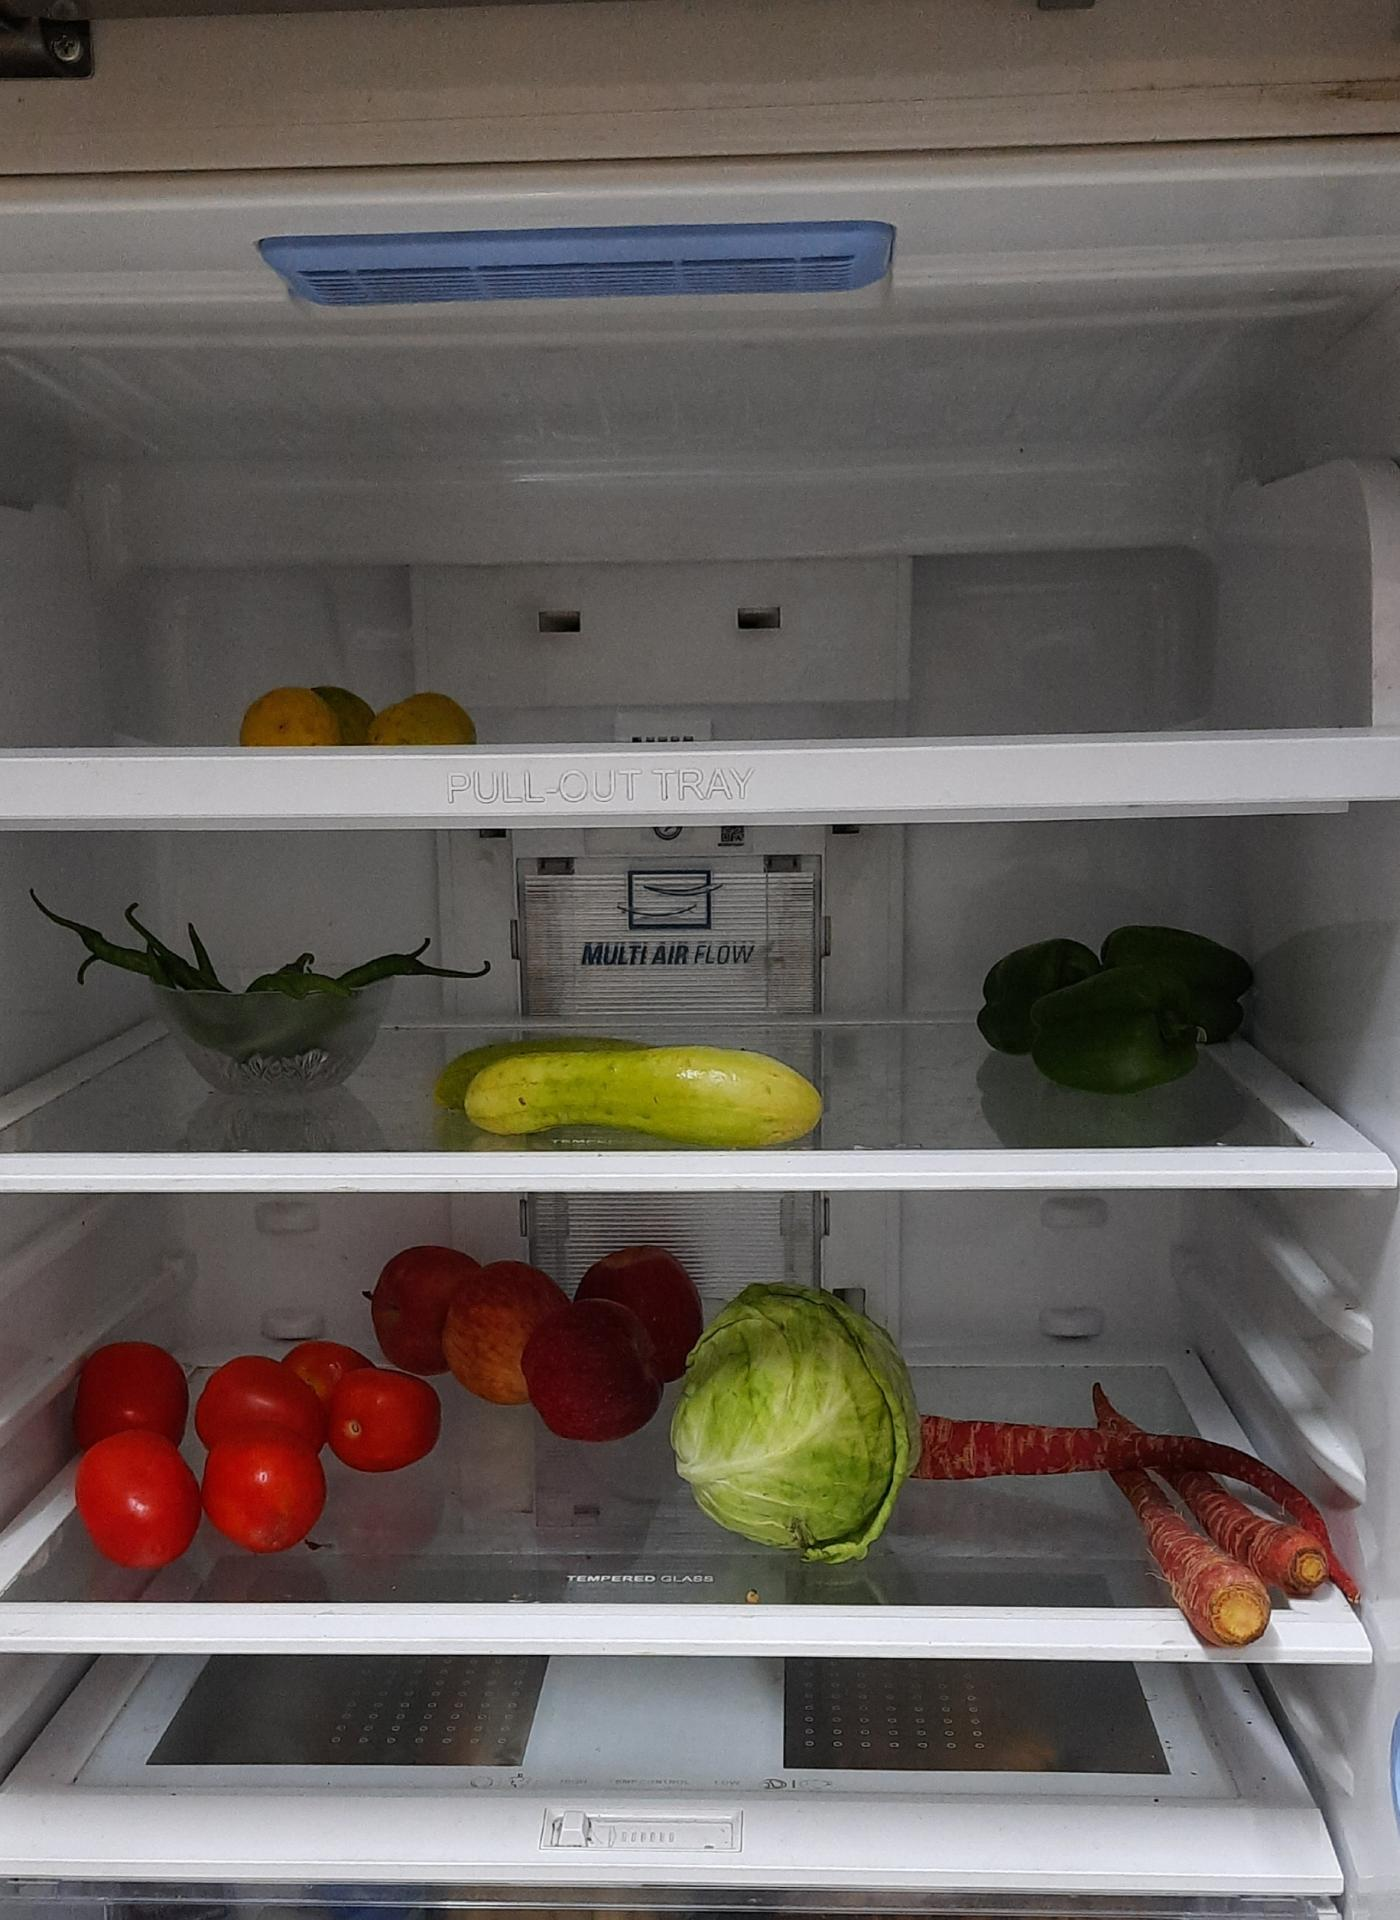apple: (364, 1230, 711, 1443)
cabbage: (674, 1289, 914, 1567)
capsicum: (969, 917, 1263, 1094)
carrots: (909, 1388, 1343, 1646)
chillies: (70, 911, 398, 1072)
cucumber: (449, 1040, 844, 1146)
lemon: (234, 677, 479, 751)
tomato: (78, 1339, 453, 1567)
